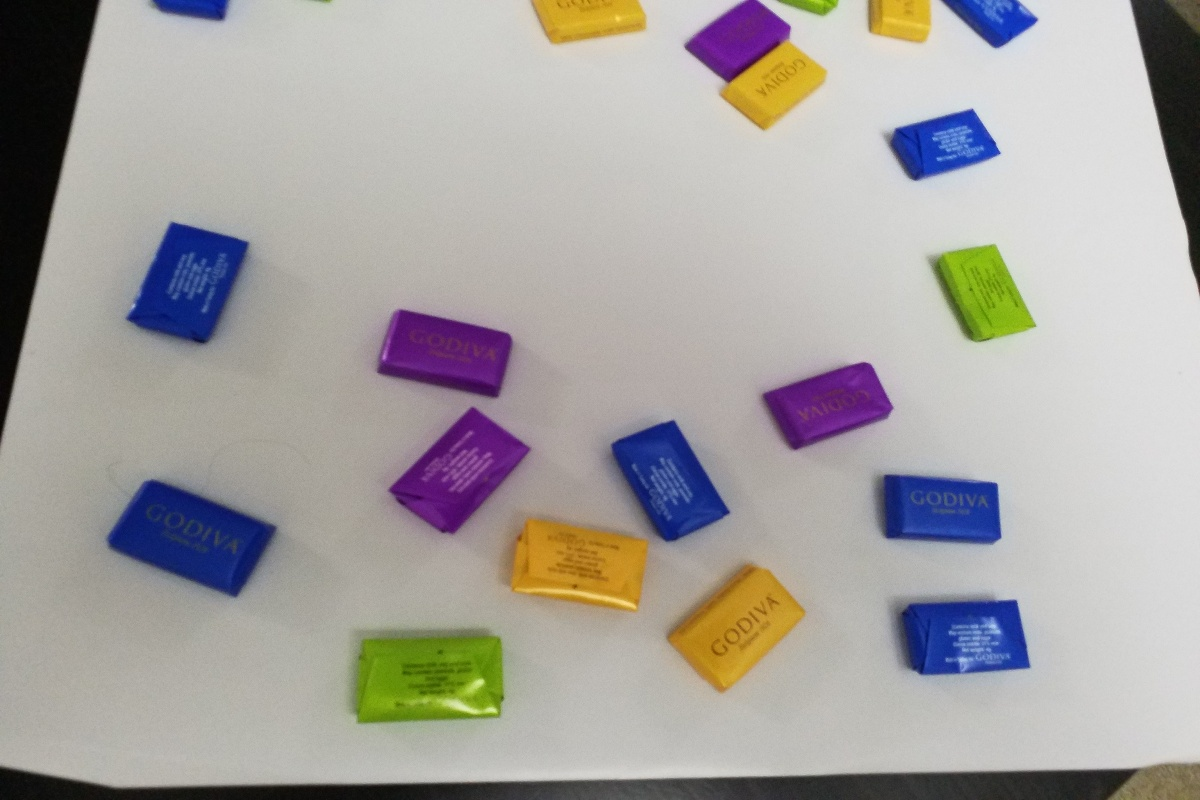chocolate_blue: (93, 475, 285, 600), (120, 206, 248, 361), (599, 410, 736, 544), (892, 590, 1049, 694), (874, 461, 1007, 558), (882, 100, 1011, 195)
chocolate_green: (345, 630, 513, 730), (928, 239, 1043, 350)
chocolate_purple: (370, 400, 534, 544), (356, 301, 527, 410), (752, 352, 901, 451)
chocolate_yellow: (664, 558, 809, 699), (510, 515, 658, 627)
